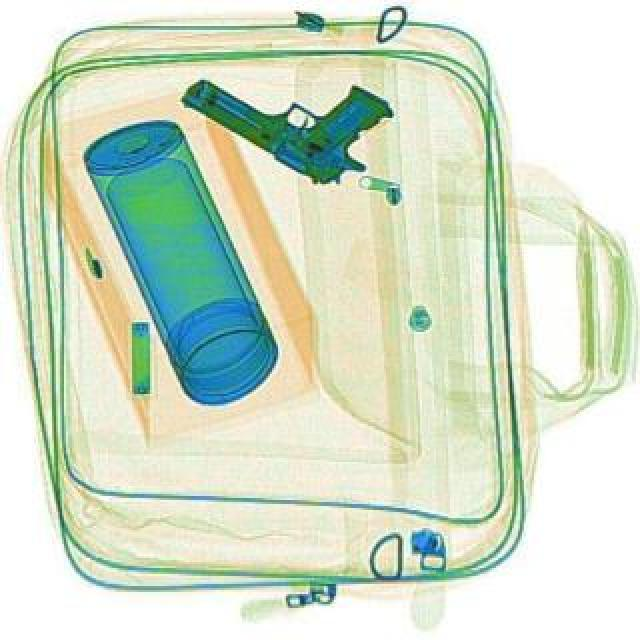gun: (182, 18, 410, 204)
